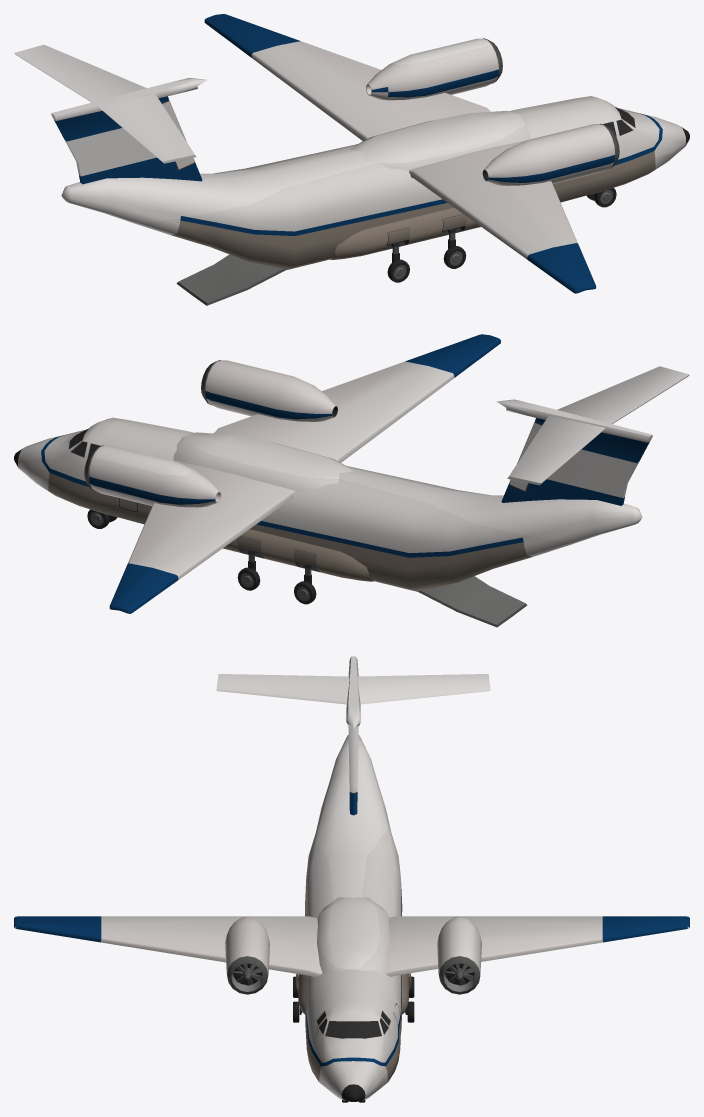
3 renders of one model, top to bottom at view 1: azimuth 30°, elevation 25°; view 2: azimuth 150°, elevation 25°; view 3: azimuth 270°, elevation 25°, orthographic. The views are drawn at different scales.
Parts seen in each view (by area): view 1: Plane, BackDoor; view 2: Plane, BackDoor; view 3: Plane.
Boxes of the visible parts, left/top/right/bottom form: Plane: left=14, top=14, right=689, bottom=293; BackDoor: left=176, top=254, right=286, bottom=305; Plane: left=14, top=334, right=689, bottom=613; BackDoor: left=417, top=576, right=527, bottom=627; Plane: left=14, top=656, right=689, bottom=1101.
Bounding box in the file's own units: 2870 × 959 × 2901.
Materials: 1 (1 with a texture image).
